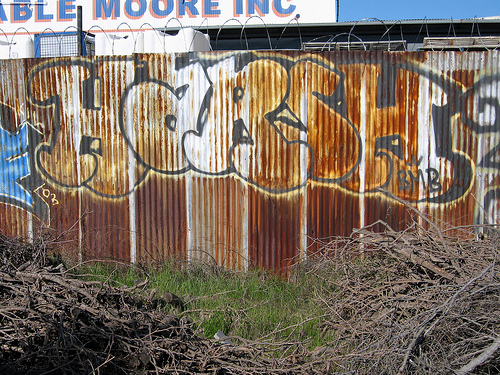graffiti: (28, 50, 478, 213), (1, 97, 58, 230), (457, 72, 499, 232)
